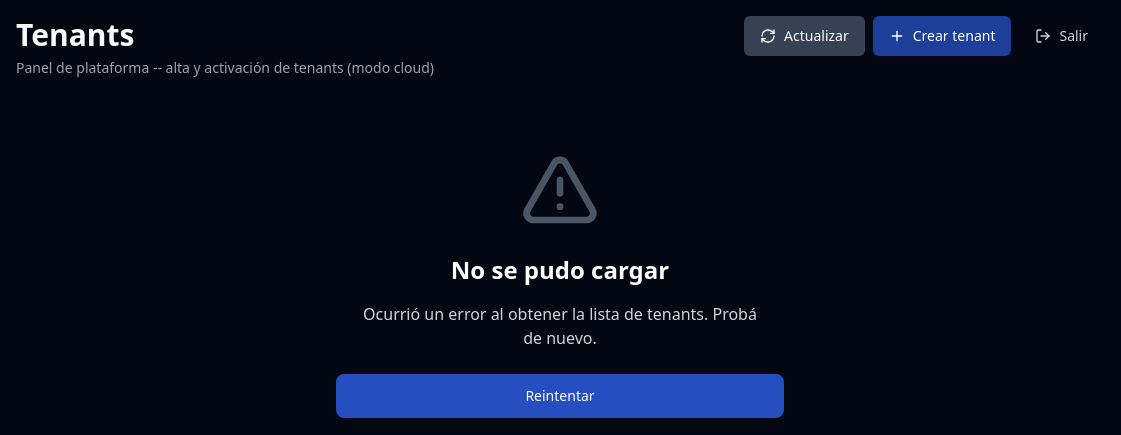
Test case: PlatformTenantsPage › Reintentar tras un error vuelve a listar y limpia el error
expect the heading "No se pudo cargar" is shown: met, box [451,252,669,286]
Click the button "Reintentar": {"x": 560, "y": 396} [336,374,784,418]
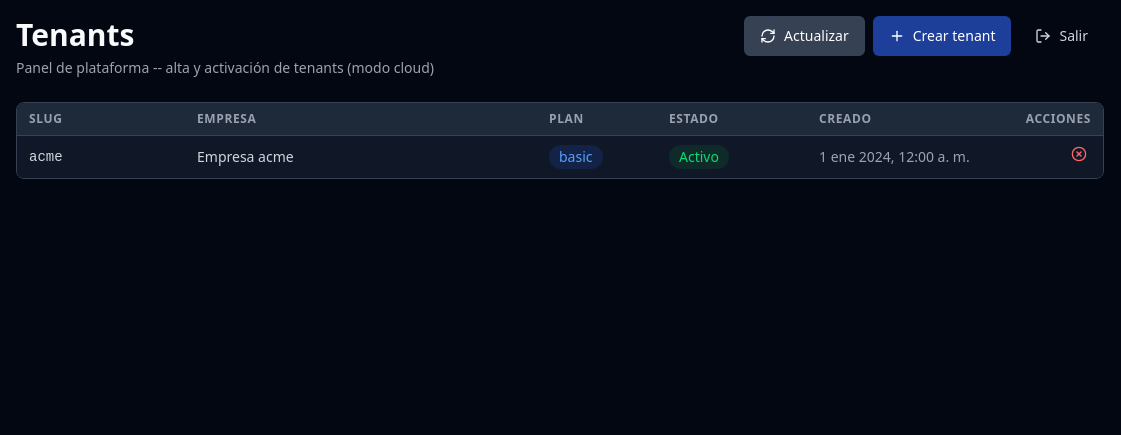
expect the text "Empresa acme" is shown: met, box [185,135,537,178]
